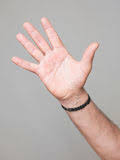palm: (9, 14, 100, 99)
